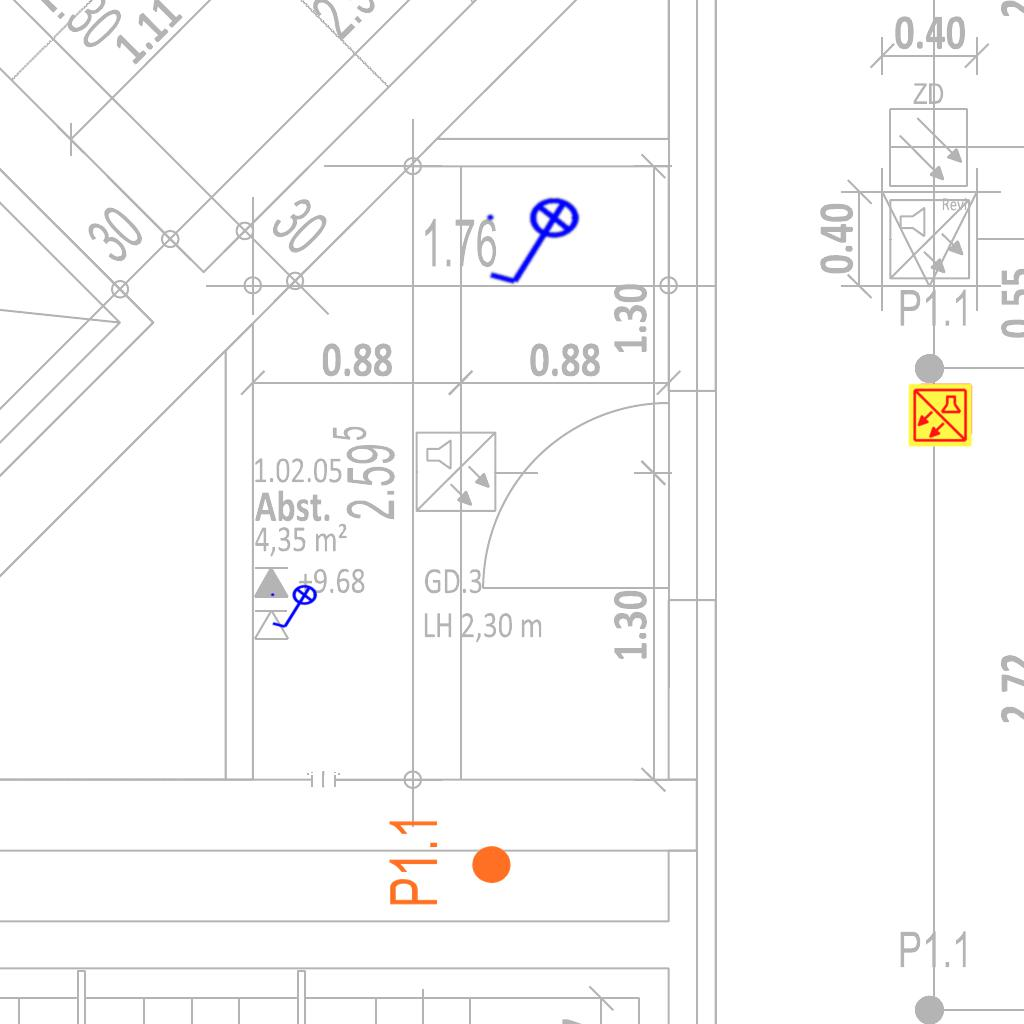Ausschalter_beleuchtet: (481, 196, 593, 292), (268, 584, 324, 632)
Downlight_LED_Einbauleuchten_Flur: (386, 815, 514, 908)
OKW_Multisensormelder_(Kombination_optischer_Rauch-Kahlenmonoxid_Waerme-Melder): (907, 382, 973, 448)
